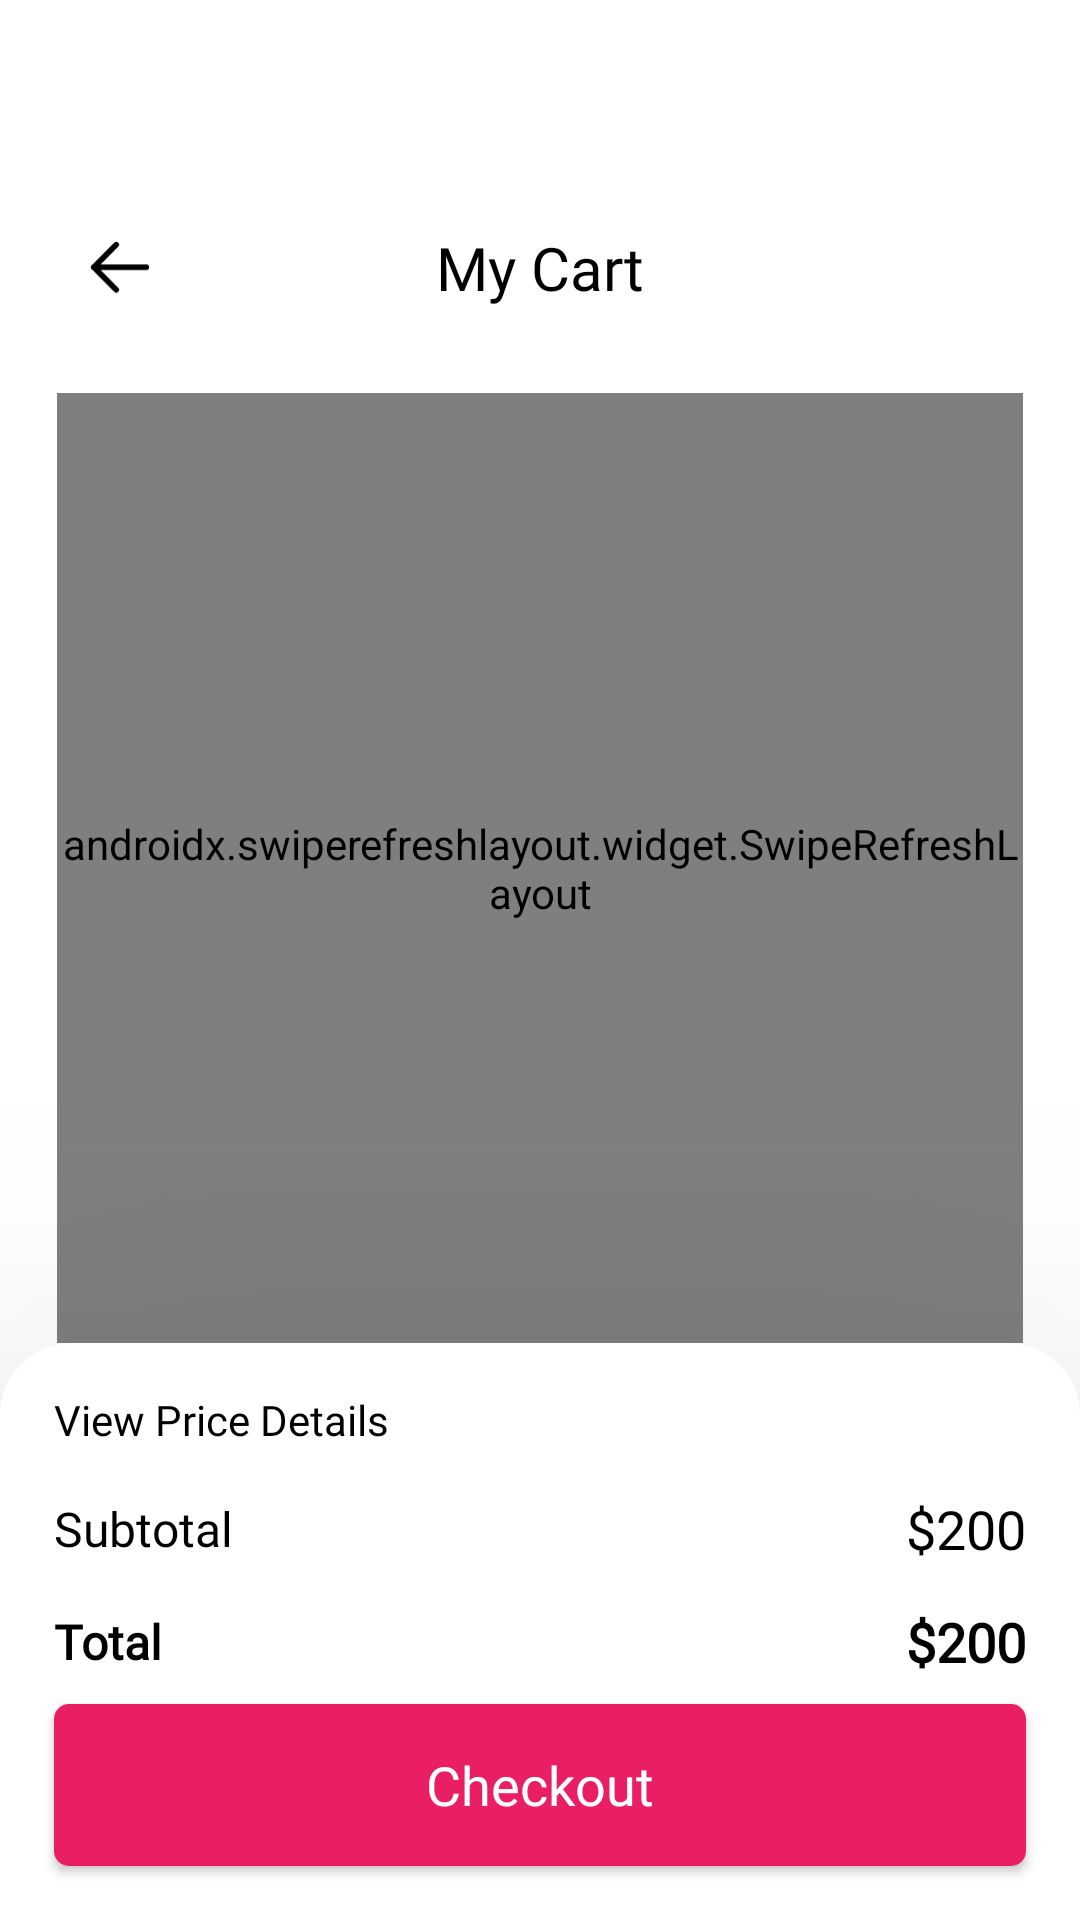

Where to tap for icons on this 1080×1920 app screen, as point (x, y):
left: point (119, 267)
